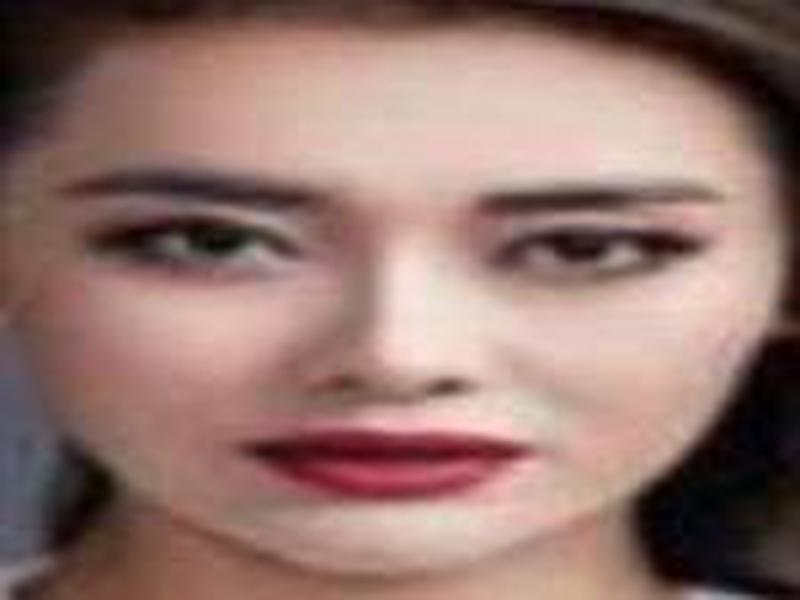without_mask: (17, 91, 779, 580)
